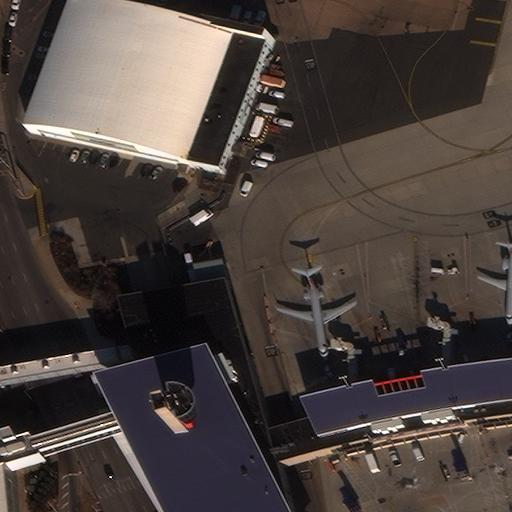Medium Civil Transport: (277, 268, 356, 358), (478, 241, 511, 326)
